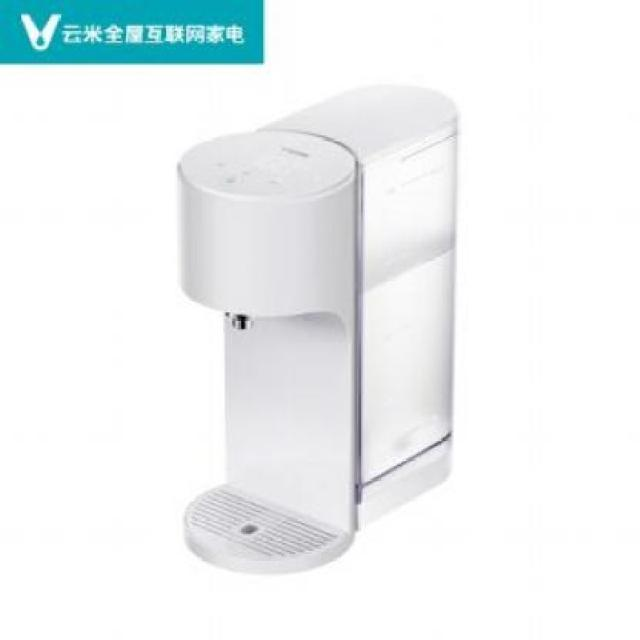cooler: (174, 79, 461, 576)
